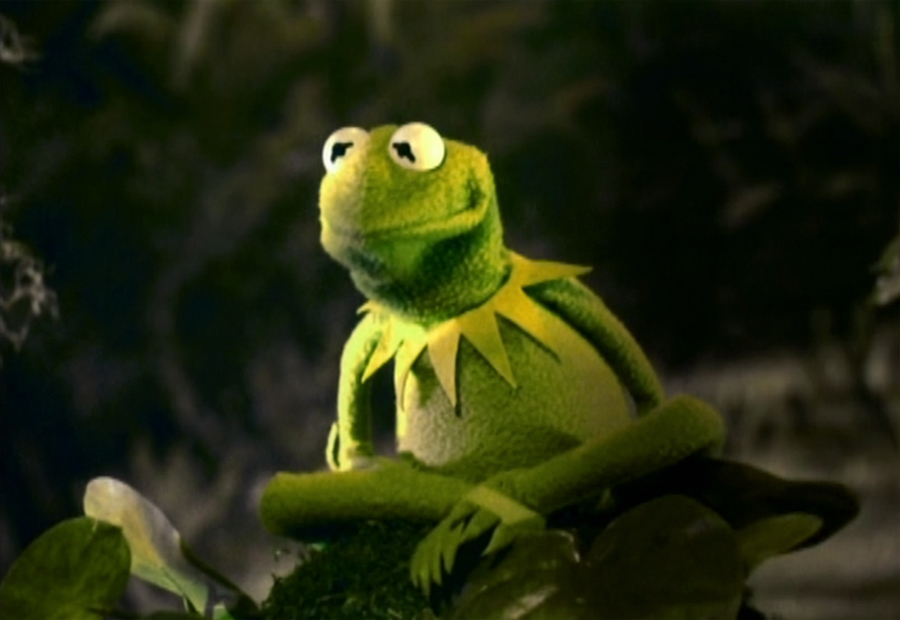kermit: (311, 118, 522, 313)
